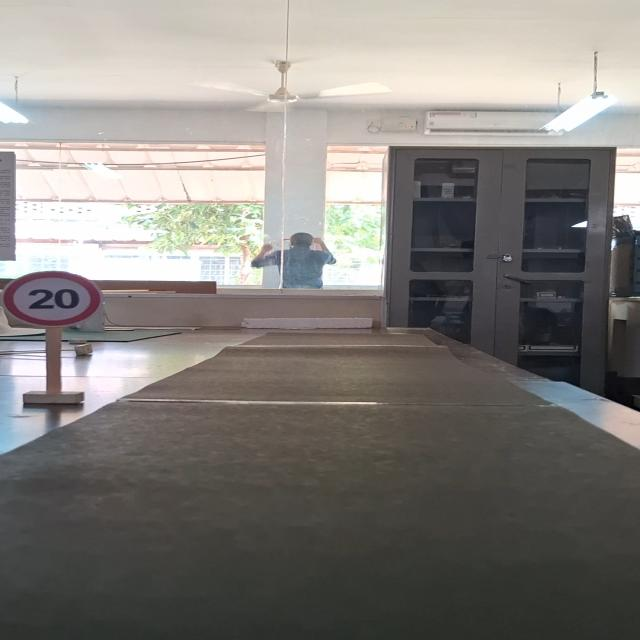Speed20: (1, 269, 106, 328)
